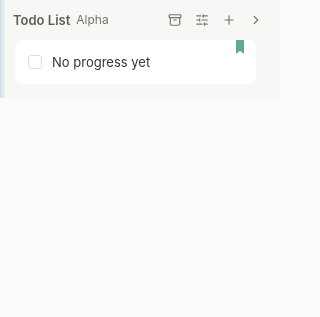
TodoRail › closes the ownership picker with one repeat click and can reopen it
What coordinates should you click on to do the following:
click the button named "新增代办"
I would click on:
 (229, 20)
Its box is 217,8 -> 242,32.
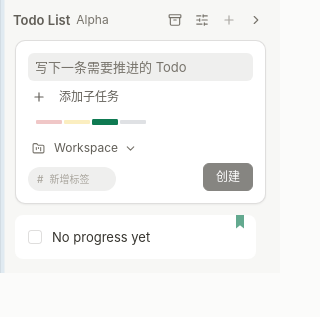
What coordinates should you click on to do the following:
click the dropdown named "Todo 归属"
I would click on:
 (96, 148)
Its box is 50,135 -> 141,161.
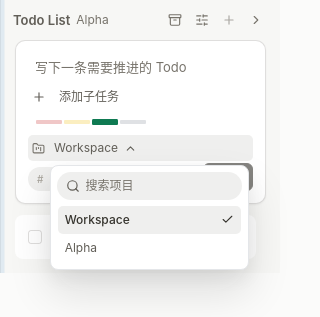
What coordinates should you click on to do the following:
click the dropdown named "Todo 归属"
I would click on:
 (96, 148)
Its box is 50,135 -> 141,161.
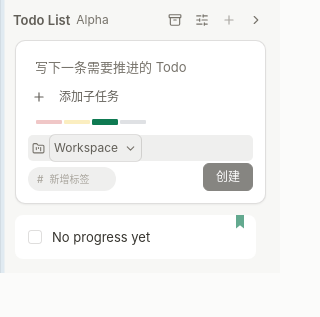
expect the dropdown named "Todo 归属" is collapsed: met
expect the list is gone: met
What coordinates should you click on to do the following:
click the dropdown named "Todo 归属"
I would click on:
 (96, 148)
Its box is 50,135 -> 141,161.
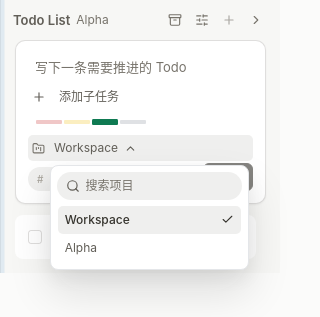
expect the dropdown named "Todo 归属" is expanded: met, box 50,135 -> 141,161
expect the list is shown: met, box 57,205 -> 242,263
